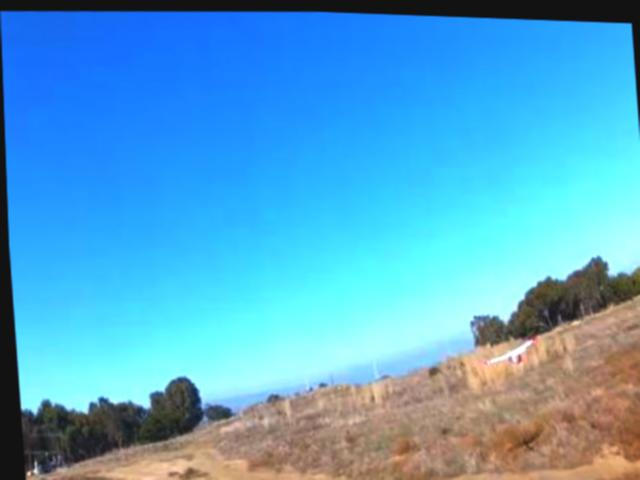uav: (477, 323, 542, 378)
